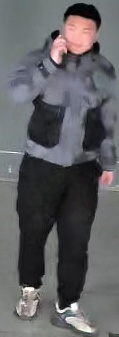phone: (12, 17, 83, 110)
